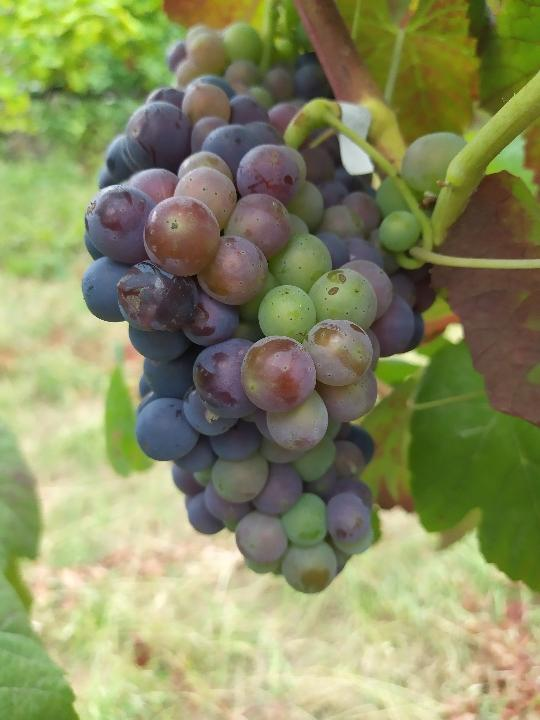grape: (76, 80, 420, 597)
